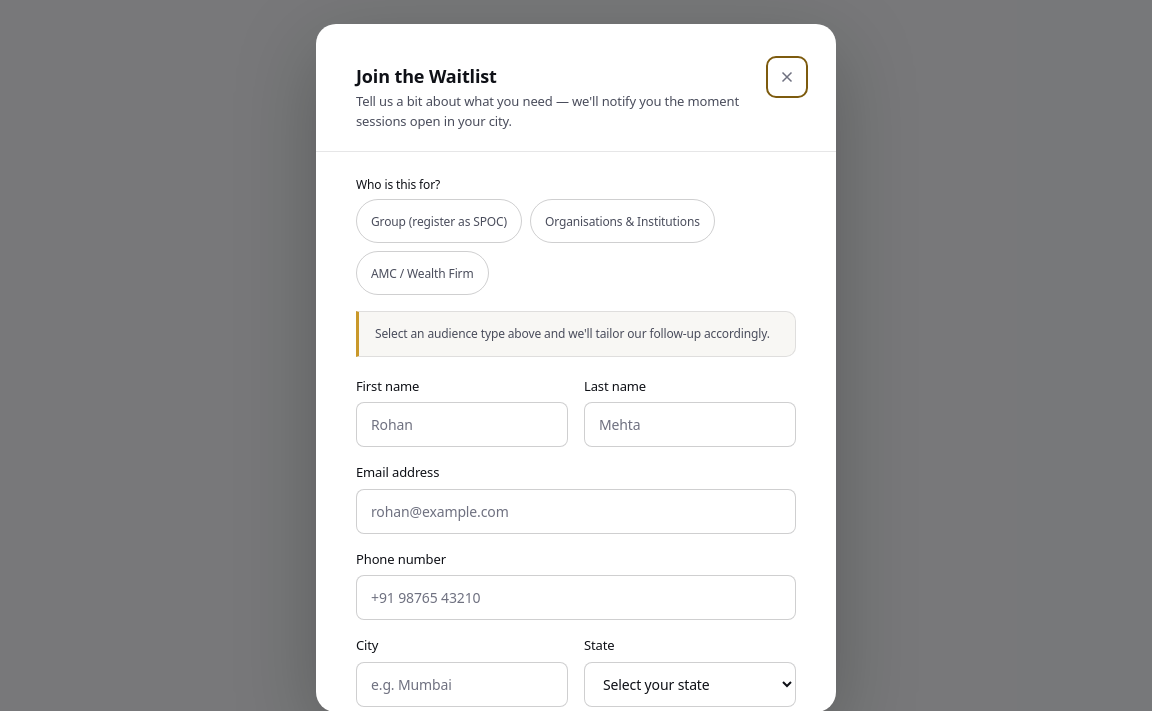
Scenario: RequestModal › asks groups for venue details, and does not ask anyone else
Click the button "Group (register as SPOC)". click: (439, 221)
box: [356,199,522,243]
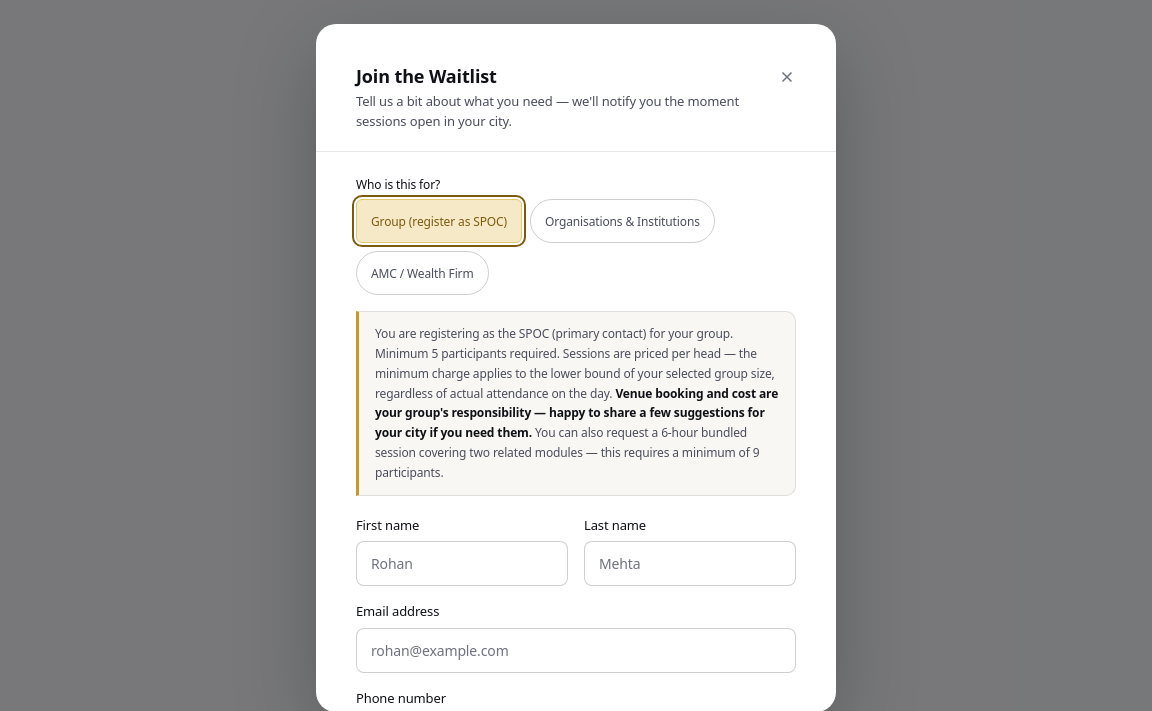
Click the button "AMC / Wealth Firm". click: (422, 273)
box: [356,251,488,295]
(page scrolled)
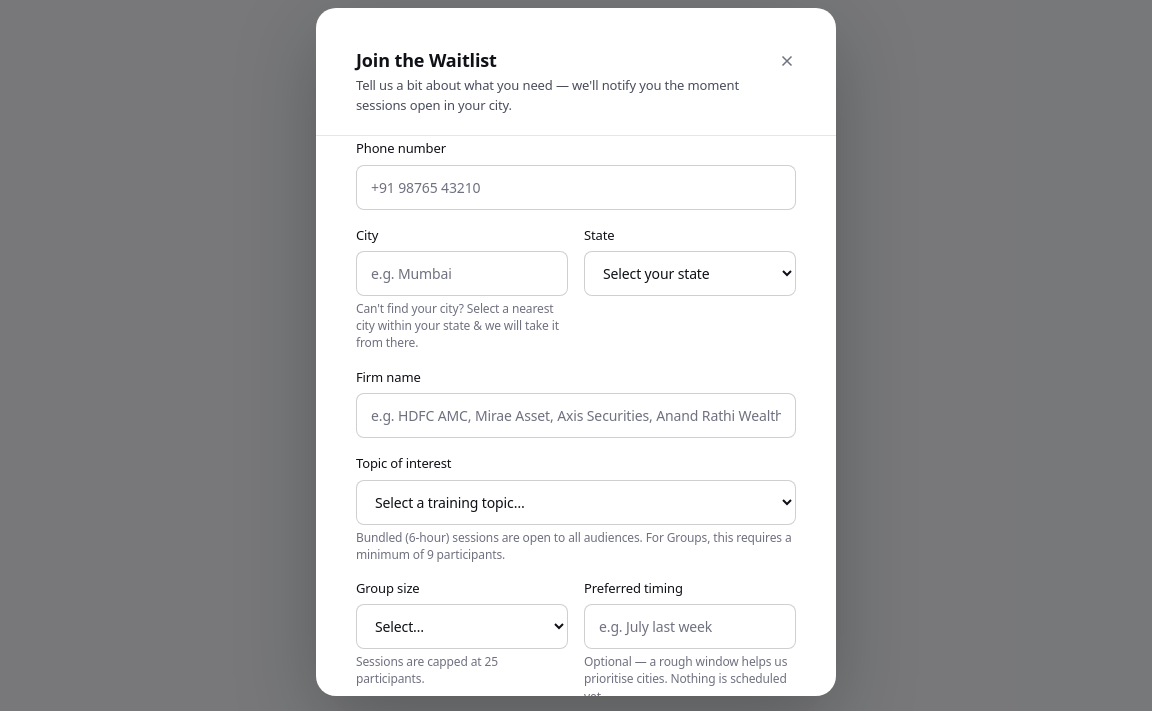
Expected: the field labelled "Firm name" is shown, [356,393,796,438]
